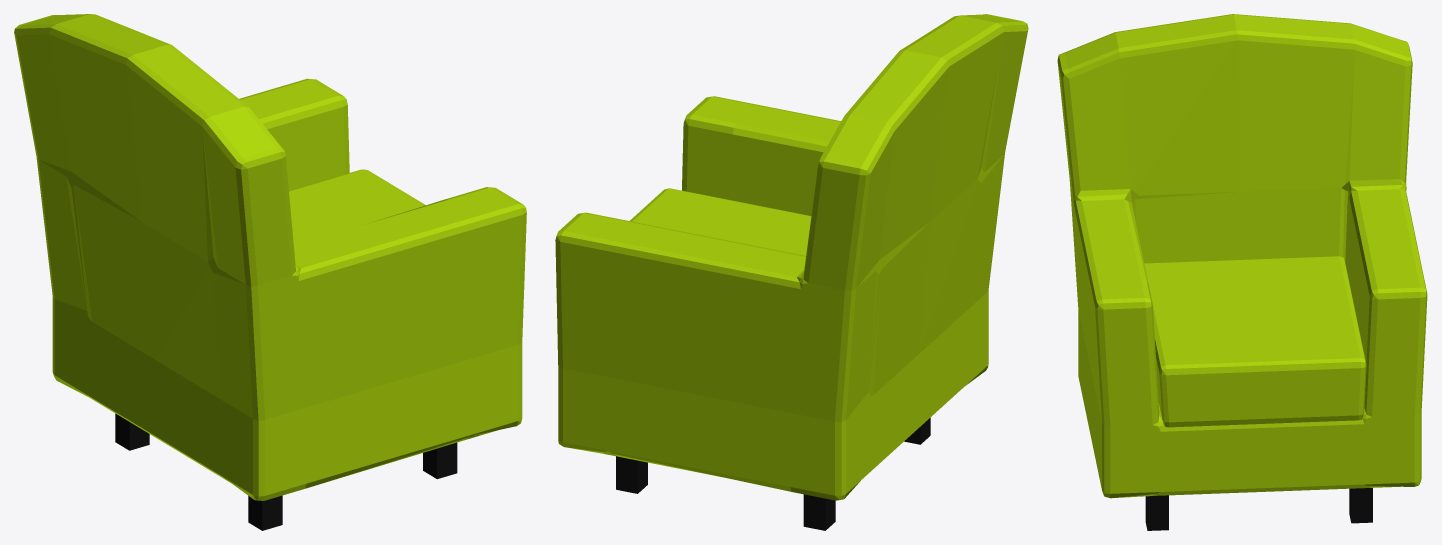
Rendered from singlesofa.obj.
The picture shows the model from 3 angles, left to right: view 1: azimuth 30°, elevation 25°; view 2: azimuth 150°, elevation 25°; view 3: azimuth 270°, elevation 25°; orthographic projection. The views are drawn at different scales.
Visible parts, largest first — view 1: Box001, Box002, Box006, Box005, Box004; view 2: Box001, Box002, Box003, Box004; view 3: Box001, Box002, Box005, Box003.
Boxes of the visible parts, bbox=[...] form: Box001: bbox=[14, 14, 526, 500]; Box002: bbox=[289, 169, 425, 245]; Box006: bbox=[248, 495, 282, 530]; Box005: bbox=[423, 442, 457, 479]; Box004: bbox=[115, 413, 149, 450]; Box001: bbox=[555, 14, 1028, 500]; Box002: bbox=[630, 188, 811, 255]; Box003: bbox=[616, 456, 647, 493]; Box004: bbox=[803, 494, 835, 530]; Box001: bbox=[1057, 14, 1427, 498]; Box002: bbox=[1144, 256, 1366, 427]; Box005: bbox=[1145, 495, 1168, 530]; Box003: bbox=[1349, 488, 1372, 523].
Bounding box in the file's own units: 111014 × 137411 × 115924.
